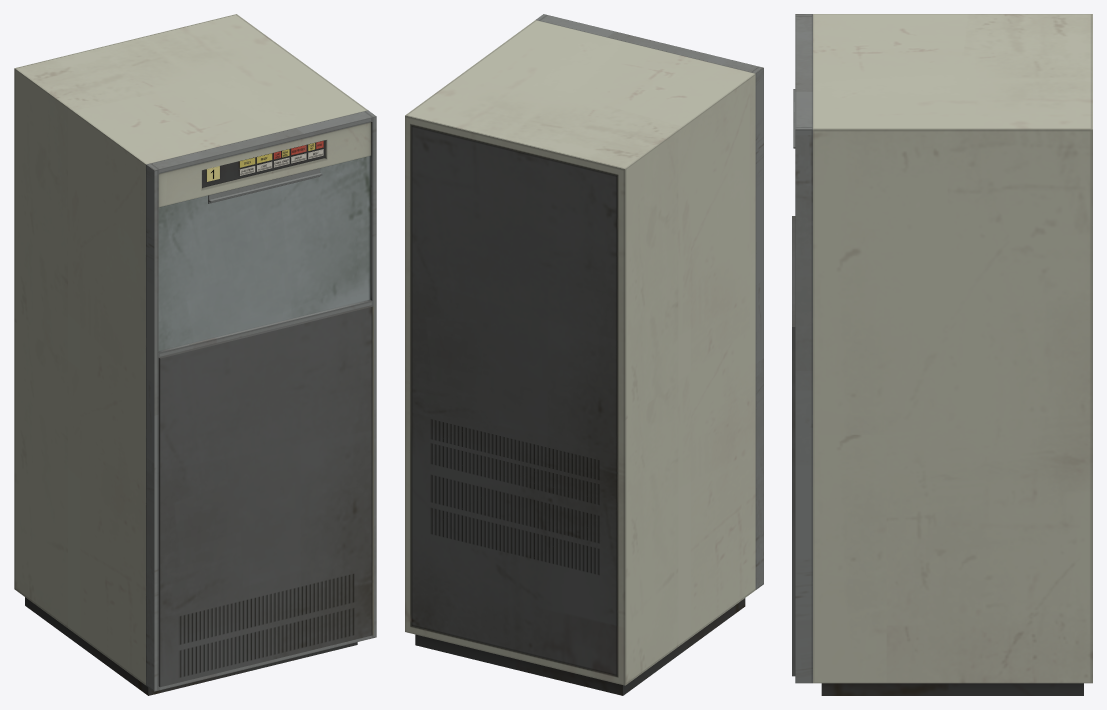
File: serverOld.fbx
3 views of the same model, side by side, from view 1: azimuth 30°, elevation 25°; view 2: azimuth 150°, elevation 25°; view 3: azimuth 270°, elevation 25° (orthographic). The views are drawn at different scales.
Parts seen in each view (by area): view 1: ibm_729; view 2: ibm_729; view 3: ibm_729.
Part boxes in pixels (x1,y1,x2,y2): ibm_729: (14,14,376,695); ibm_729: (405,14,763,695); ibm_729: (792,14,1092,695).
Bounding box in the file's own units: 3775 × 8699 × 4160.
